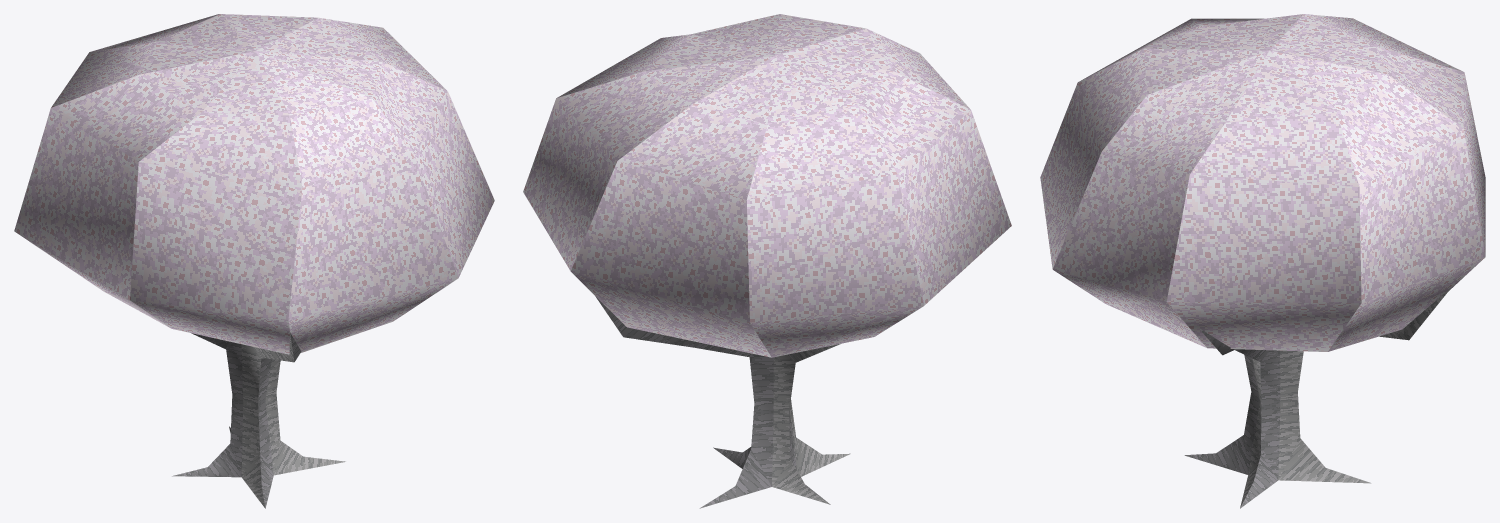
The model's file is 0282_Cherry_Tree.glb.
3 views of the same model, side by side, from view 1: azimuth 30°, elevation 25°; view 2: azimuth 150°, elevation 25°; view 3: azimuth 270°, elevation 25° (orthographic).
Parts seen in each view (by area): view 1: part_0; view 2: part_0; view 3: part_0.
Part boxes in pixels (x1,y1,x2,y2): part_0: [14, 14, 494, 508]; part_0: [523, 14, 1011, 508]; part_0: [1040, 14, 1485, 508].
Bounding box in the file's own units: 4.66 × 4.67 × 4.48.
Materials: 1 (1 with a texture image).
